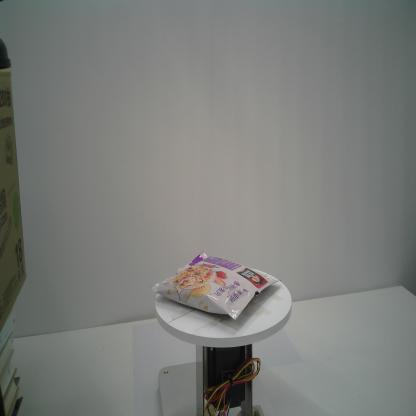Instant Drink: (150, 249, 280, 322)
